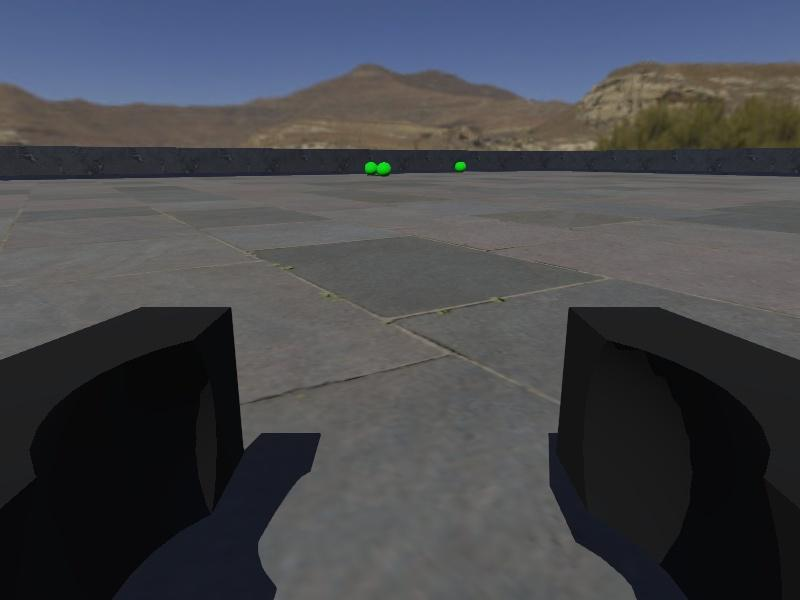green ball: (376, 160, 392, 177), (364, 161, 377, 175), (455, 160, 467, 172)
